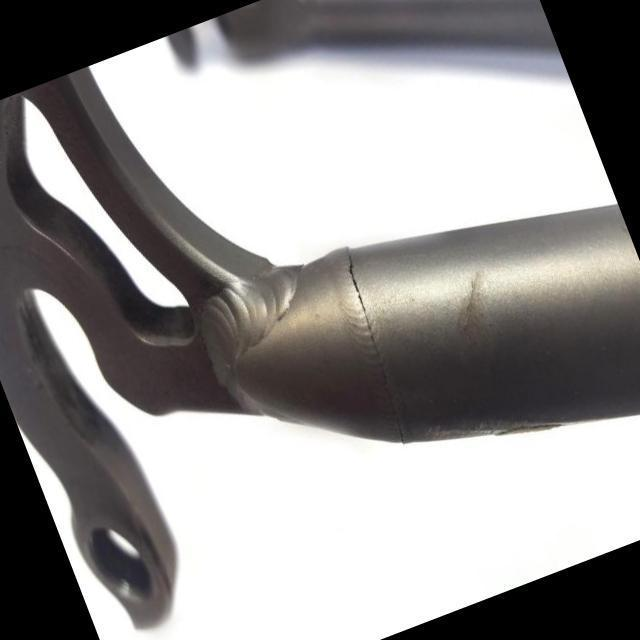defect: (344, 242, 406, 447)
